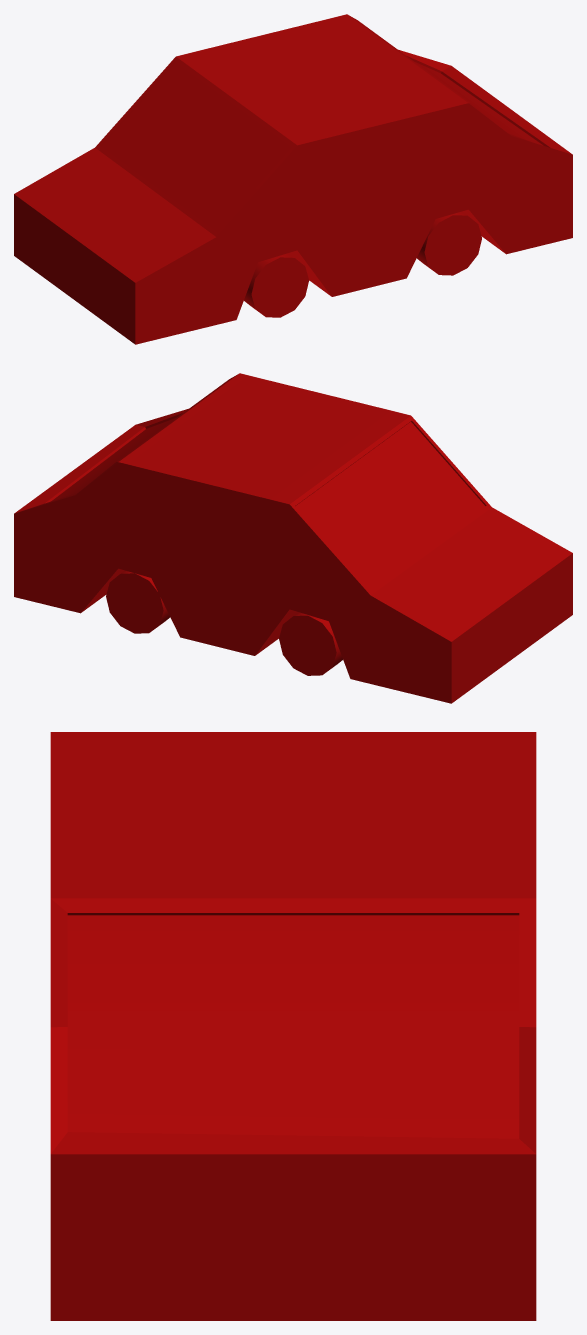
Rendered from carro vermelho.FBX.
The picture shows the model from 3 angles, top to bottom: view 1: azimuth 30°, elevation 25°; view 2: azimuth 150°, elevation 25°; view 3: azimuth 270°, elevation 25°; orthographic projection. The views are drawn at different scales.
Visible parts, largest first — view 1: carro vermelho; view 2: carro vermelho; view 3: carro vermelho.
Boxes of the visible parts, x1,y1,x2,y2 form: carro vermelho: (14, 14, 572, 344); carro vermelho: (14, 373, 572, 703); carro vermelho: (50, 732, 536, 1320).
Size of the model in its own units: 58.88 by 28.31 by 21.72.
